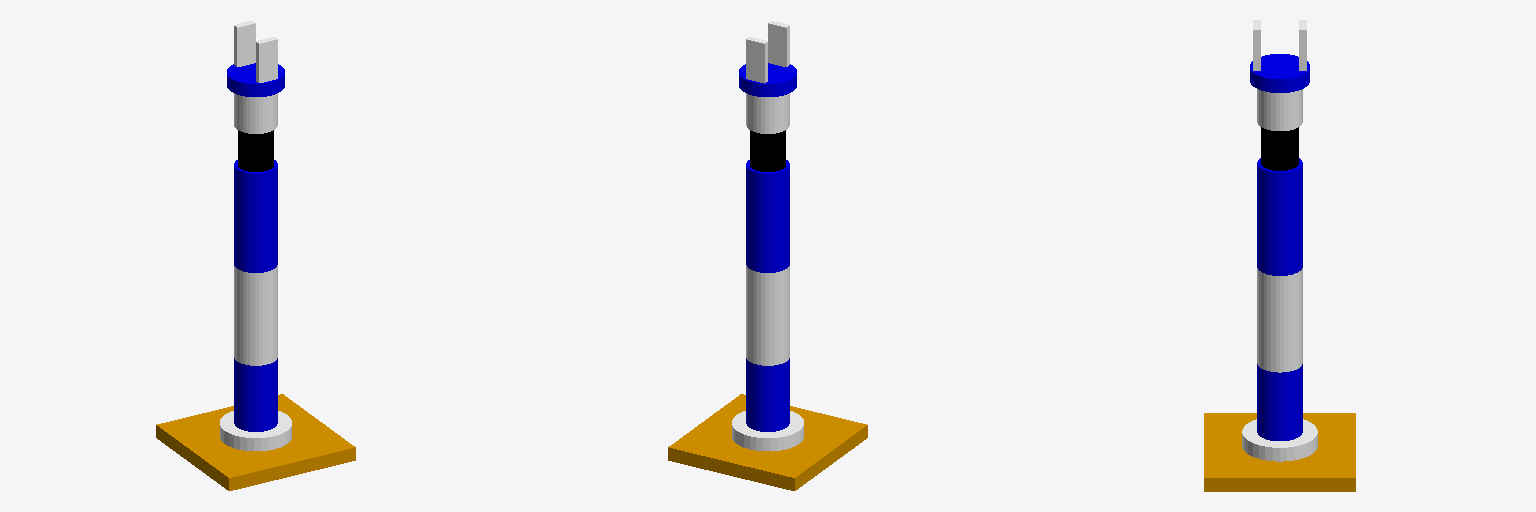
robot.urdf — marm:
<?xml version="1.0" ?>
<robot name="marm">
    <!-- /////////////////////////////////////    COLOR    ///////////////////////////////////////////// -->
    <material name="Black">
        <color rgba="0 0 0 1" />
    </material>
    <material name="White">
        <color rgba="1 1 1 1" />
    </material>
    <material name="Blue">
        <color rgba="0 0 1 1" />
    </material>
    <material name="Red">
        <color rgba="1 0 0 1" />
    </material>

    <joint name="bottom_joint" type="fixed">
        <origin xyz="0 0 0" rpy="0 0 0" />
        <parent link="base_link"/>
        <child link="bottom_link"/>
    </joint>
    <link name="bottom_link">
        <visual>
              <origin xyz=" 0 0 -0.01"  rpy="0 0 0"/>
                  <geometry>
                       <box size="0.2 0.2 0.02" />
                  </geometry>
              <material name="Brown" />
        </visual>
        <collision>
            <origin xyz=" 0 0 -0.01"  rpy="0 0 0"/>
            <geometry>
                <box size="0.2 0.2 0.02" />
            </geometry>
        </collision>
        <inertial>
            <mass value="500" />
            <inertia ixx="1.0" ixy="0.0" ixz="0.0" iyy="0.5" iyz="0.0" izz="1.0" />
        </inertial>
    </link>

    <!-- /////////////////////////////////////    BASE    ///////////////////////////////////////////// -->
    <link name="base_link">
        <visual>
            <origin rpy="0 0 0" xyz="0 0 0" />
            <geometry>
                <cylinder length="0.04" radius="0.05" />
            </geometry>
            <material name="White" />
        </visual>
        <collision>
            <origin rpy="0 0 0" xyz="0 0 0" />
            <geometry>
                <cylinder length="0.04" radius="0.05" />
            </geometry>
        </collision>
        
<inertial>
            <mass value="0.1" />
            <inertia ixx="0.03" iyy="0.03" izz="0.03" ixy="0.0" ixz="0.0" iyz="0.0" />
        </inertial>

    </link>
    <!-- /////////////////////////////////////   LINK1  ////////////////////////////////////////////// -->
    <link name="link1">
        <visual>
            <origin rpy="0 1.5707 0" xyz="-0.05 0 0" />
            <geometry>
                <cylinder length="0.1" radius="0.03" />
            </geometry>
            <material name="Blue" />
        </visual>
        <collision>
            <origin rpy="0 1.5707 0" xyz="-0.05 0 0" />
            <geometry>
                <cylinder length="0.1" radius="0.03" />
            </geometry>
        </collision>
        
<inertial>
            <mass value="0.1" />
            <inertia ixx="0.03" iyy="0.03" izz="0.03" ixy="0.0" ixz="0.0" iyz="0.0" />
        </inertial>

    </link>
    <joint name="joint1" type="revolute">
        <parent link="base_link" />
        <child link="link1" />
        <origin rpy="0 1.5707 0" xyz="0 0 0.02" />
        <axis xyz="-1 0 0" />
        <limit effort="300" lower="-3.14159" upper="3.14159" velocity="1" />
    </joint>
    <!-- ///////////////////////////////////////   LINK2  ////////////////////////////////////////////// -->
    <link name="link2">
        <visual>
            <origin rpy="0 0 0" xyz="0 0 0.07" />
            <geometry>
                <cylinder length="0.14" radius="0.03" />
            </geometry>
            <material name="White" />
        </visual>
        <collision>
            <origin rpy="0 0 0" xyz="0 0 0.07" />
            <geometry>
                <cylinder length="0.14" radius="0.03" />
            </geometry>
        </collision>
        
<inertial>
            <mass value="0.1" />
            <inertia ixx="0.03" iyy="0.03" izz="0.03" ixy="0.0" ixz="0.0" iyz="0.0" />
        </inertial>

    </link>
    <joint name="joint2" type="revolute">
        <parent link="link1" />
        <child link="link2" />
        <origin rpy="-1.5707 0 1.5707" xyz="-0.1 0 0.0" />
        <axis xyz="1 0 0" />
        <limit effort="300" lower="-3.14159" upper="3.14159" velocity="1" />
    </joint>
    <!-- /////////////////////////////////   LINK3  ///////////////////////////////////////////////////// -->
    <link name="link3">
        <visual>
            <origin rpy="0 0 0" xyz="0 0 -0.075" />
            <geometry>
                <cylinder length="0.15" radius="0.03" />
            </geometry>
            <material name="Blue" />
        </visual>
        <collision>
            <origin rpy="0 0 0" xyz="0 0 -0.075" />
            <geometry>
                <cylinder length="0.15" radius="0.03" />
            </geometry>
        </collision>
        
<inertial>
            <mass value="0.1" />
            <inertia ixx="0.03" iyy="0.03" izz="0.03" ixy="0.0" ixz="0.0" iyz="0.0" />
        </inertial>

    </link>
    <joint name="joint3" type="revolute">
        <parent link="link2" />
        <child link="link3" />
        <origin rpy="0 3.14159 0" xyz="0 0 0.14" />
        <axis xyz="-1 0 0" />
        <limit effort="300" lower="-3.14159" upper="3.14159" velocity="1" />
    </joint>
    <!-- ///////////////////////////////////   LINK4  //////////////////////////////////////////////// -->
    <link name="link4">
        <visual>
            <origin rpy="0 1.5707 0" xyz="0.03 0 0" />
            <geometry>
                <cylinder length="0.06" radius="0.025" />
            </geometry>
            <material name="Black" />
        </visual>
        <collision>
            <origin rpy="0 1.5707 0" xyz="0.03 0 0" />
            <geometry>
                <cylinder length="0.06" radius="0.025" />
            </geometry>
        </collision>
        
<inertial>
            <mass value="0.1" />
            <inertia ixx="0.03" iyy="0.03" izz="0.03" ixy="0.0" ixz="0.0" iyz="0.0" />
        </inertial>

    </link>
    <joint name="joint4" type="revolute">
        <parent link="link3" />
        <child link="link4" />
        <origin rpy="0 1.5707 3.14159" xyz="0.0 0.0 -0.15" />
        <axis xyz="1 0 0" />
        <limit effort="300" lower="-3.14159" upper="3.14159" velocity="1" />
    </joint>
    <!-- //////////////////////////////////   LINK5  ///////////////////////////////////////////////// -->
    <link name="link5">
        <visual>
            <origin rpy="0 0 0" xyz="0 0 0.03" />
            <geometry>
                <cylinder length="0.06" radius="0.03" />
            </geometry>
            <material name="White" />
        </visual>
        <collision>
            <origin rpy="0 0 0" xyz="0 0 0.03" />
            <geometry>
                <cylinder length="0.06" radius="0.03" />
            </geometry>
        </collision>
        
<inertial>
            <mass value="0.1" />
            <inertia ixx="0.03" iyy="0.03" izz="0.03" ixy="0.0" ixz="0.0" iyz="0.0" />
        </inertial>

    </link>
    <joint name="joint5" type="revolute">
        <parent link="link4" />
        <child link="link5" />
        <origin rpy="0 1.5707 0" xyz="0.06 0.0 0.0" />
        <axis xyz="1 0 0" />
        <limit effort="300" lower="-3.14159" upper="3.14159" velocity="1" />
    </joint>
    <!-- ////////////////////////////////   LINK6  ///////////////////////////////////////////////// -->
    <link name="link6">
        <visual>
            <origin rpy="0 1.5707 0" xyz="0.01 0 0 " />
            <geometry>
                <cylinder length="0.02" radius="0.04" />
            </geometry>
            <material name="Blue" />
        </visual>
        <collision>
            <origin rpy="0 1.5707 0" xyz="0.01 0 0 " />
            <geometry>
                <cylinder length="0.02" radius="0.04" />
            </geometry>
        </collision>
        
<inertial>
            <mass value="0.1" />
            <inertia ixx="0.03" iyy="0.03" izz="0.03" ixy="0.0" ixz="0.0" iyz="0.0" />
        </inertial>

    </link>
    <joint name="joint6" type="revolute">
        <parent link="link5" />
        <child link="link6" />
        <origin rpy="4.712385 -1.5707 0" xyz="0 0 0.06" />
        <axis xyz="1 0 0" />
        <limit effort="300" lower="-6.28318" upper="6.28318" velocity="1" />
    </joint>
    <!-- //////////////////////////////////////   GRIPPER   ////////////////////////////////////////////// -->
    <link name="gripper_finger_link1">
        <visual>
            <origin rpy="0 1.5707 0" xyz="0.03 0 0" />
            <geometry>
                <box size="0.03 0.01 0.06" />
            </geometry>
            <material name="White" />
        </visual>
        <collision>
            <origin rpy="0 1.5707 0" xyz="0.03 0 0" />
            <geometry>
                <box size="0.03 0.01 0.06" />
            </geometry>
        </collision>
        
<inertial>
            <mass value="0.1" />
            <inertia ixx="0.03" iyy="0.03" izz="0.03" ixy="0.0" ixz="0.0" iyz="0.0" />
        </inertial>

    </link>
    <link name="gripper_finger_link2">
        <visual>
            <origin rpy="0 1.5707 0" xyz="0.03 0 0" />
            <geometry>
                <box size="0.03 0.01 0.06" />
            </geometry>
            <material name="White" />
        </visual>
        <collision>
            <origin rpy="0 1.5707 0" xyz="0.03 0 0" />
            <geometry>
                <box size="0.03 0.01 0.06" />
            </geometry>
        </collision>
        
<inertial>
            <mass value="0.1" />
            <inertia ixx="0.03" iyy="0.03" izz="0.03" ixy="0.0" ixz="0.0" iyz="0.0" />
        </inertial>

    </link>
    <joint name="finger_joint1" type="prismatic">
        <parent link="link6" />
        <child link="gripper_finger_link1" />
        <origin rpy="0 0 0" xyz="0.02 -0.03 0" />
        <axis xyz="0 1 0" />
        <limit effort="100" lower="0" upper="0.03" velocity="0.02" />
    </joint>
    <joint name="finger_joint2" type="prismatic">
        <parent link="link6" />
        <child link="gripper_finger_link2" />
        <origin rpy="0 0 0" xyz="0.02 0.03 0" />
        <axis xyz="0 -1 0" />
        <limit effort="100" lower="0" upper="0.03" velocity="0.02" />
    </joint>

    <!-- //////////////////////////////////////   GRASPING FRAME   ////////////////////////////////////////////// -->
    <link name="grasping_frame" />
    <joint name="grasping_frame_joint" type="fixed">
        <parent link="link6" />
        <child link="grasping_frame" />
        <origin rpy="0 0 0" xyz="0.06 0 0" />
    </joint>

    <joint name="kinect_joint" type="fixed">
        <origin xyz="0.1 0 0.8" rpy="0 1.308996939 0" />
        <parent link="base_link"/>
        <child link="camera_link"/>
    </joint>

    <link name="camera_link">
            <origin xyz="0 0 0" rpy="0 0 0"/>
            <visual>
                <origin xyz="0 0 0" rpy="0 0 1.5708"/>
                <geometry>
                    <mesh filename="package://marm_description/meshes/kinect.dae" />
                </geometry>
            </visual>
            <collision>
                <geometry>
                    <box size="0.07 0.3 0.09"/>
                </geometry>
            </collision>
        </link>

        <joint name="camera_optical_joint" type="fixed">
            <origin xyz="0 0 0" rpy="-1.5708 0 -1.5708"/>
            <parent link="camera_link"/>
            <child link="camera_frame_optical"/>
        </joint>

        <link name="camera_frame_optical"/>

        <gazebo reference="camera_link">
            <sensor type="depth" name="camera">
                <always_on>true</always_on>
                <update_rate>20.0</update_rate>
                <camera>
                    <horizontal_fov>1.047</horizontal_fov>
                    <image>
                        <format>R8G8B8</format>
                        <width>640</width>
                        <height>480</height>
                    </image>
                    <clip>
                        <near>0.05</near>
                        <far>8.0</far>
                    </clip>
                </camera>
                <plugin name="kinect_camera_controller" filename="libgazebo_ros_openni_kinect.so">
                    <cameraName>camera</cameraName>
                    <alwaysOn>true</alwaysOn>
                    <updateRate>10</updateRate>
                    <imageTopicName>rgb/image_raw</imageTopicName>
                    <depthImageTopicName>depth/image_raw</depthImageTopicName>
                    <pointCloudTopicName>depth/points</pointCloudTopicName>
                    <cameraInfoTopicName>rgb/camera_info</cameraInfoTopicName>
                    <depthImageCameraInfoTopicName>depth/camera_info</depthImageCameraInfoTopicName>
                    <frameName>camera_frame_optical</frameName>
                    <baseline>0.1</baseline>
                    <distortion_k1>0.0</distortion_k1>
                    <distortion_k2>0.0</distortion_k2>
                    <distortion_k3>0.0</distortion_k3>
                    <distortion_t1>0.0</distortion_t1>
                    <distortion_t2>0.0</distortion_t2>
                    <pointCloudCutoff>0.4</pointCloudCutoff>
                </plugin>
            </sensor>
        </gazebo>

    
<transmission name="trans_joint1">
        <type>transmission_interface/SimpleTransmission</type>
        <joint name="joint1">
            <hardwareInterface>hardware_interface/PositionJointInterface</hardwareInterface>
        </joint>
        <actuator name="joint1_motor">
            <hardwareInterface>hardware_interface/PositionJointInterface</hardwareInterface>
            <mechanicalReduction>1</mechanicalReduction>
        </actuator>
    </transmission>
    <transmission name="trans_joint2">
        <type>transmission_interface/SimpleTransmission</type>
        <joint name="joint2">
            <hardwareInterface>hardware_interface/PositionJointInterface</hardwareInterface>
        </joint>
        <actuator name="joint2_motor">
            <hardwareInterface>hardware_interface/PositionJointInterface</hardwareInterface>
            <mechanicalReduction>1</mechanicalReduction>
        </actuator>
    </transmission>
    <transmission name="trans_joint3">
        <type>transmission_interface/SimpleTransmission</type>
        <joint name="joint3">
            <hardwareInterface>hardware_interface/PositionJointInterface</hardwareInterface>
        </joint>
        <actuator name="joint3_motor">
            <hardwareInterface>hardware_interface/PositionJointInterface</hardwareInterface>
            <mechanicalReduction>1</mechanicalReduction>
        </actuator>
    </transmission>
    <transmission name="trans_joint4">
        <type>transmission_interface/SimpleTransmission</type>
        <joint name="joint4">
            <hardwareInterface>hardware_interface/PositionJointInterface</hardwareInterface>
        </joint>
        <actuator name="joint4_motor">
            <hardwareInterface>hardware_interface/PositionJointInterface</hardwareInterface>
            <mechanicalReduction>1</mechanicalReduction>
        </actuator>
    </transmission>
    <transmission name="trans_joint5">
        <type>transmission_interface/SimpleTransmission</type>
        <joint name="joint5">
            <hardwareInterface>hardware_interface/PositionJointInterface</hardwareInterface>
        </joint>
        <actuator name="joint5_motor">
            <hardwareInterface>hardware_interface/PositionJointInterface</hardwareInterface>
            <mechanicalReduction>1</mechanicalReduction>
        </actuator>
    </transmission>
    <transmission name="trans_joint6">
        <type>transmission_interface/SimpleTransmission</type>
        <joint name="joint6">
            <hardwareInterface>hardware_interface/PositionJointInterface</hardwareInterface>
        </joint>
        <actuator name="joint6_motor">
            <hardwareInterface>hardware_interface/PositionJointInterface</hardwareInterface>
            <mechanicalReduction>1</mechanicalReduction>
        </actuator>
    </transmission>
    <transmission name="trans_finger_joint1">
        <type>transmission_interface/SimpleTransmission</type>
        <joint name="finger_joint1">
            <hardwareInterface>hardware_interface/PositionJointInterface</hardwareInterface>
        </joint>
        <actuator name="finger_joint1_motor">
            <hardwareInterface>hardware_interface/PositionJointInterface</hardwareInterface>
            <mechanicalReduction>1</mechanicalReduction>
        </actuator>
    </transmission>
    <transmission name="trans_finger_joint2">
        <type>transmission_interface/SimpleTransmission</type>
        <joint name="finger_joint2">
            <hardwareInterface>hardware_interface/PositionJointInterface</hardwareInterface>
        </joint>
        <actuator name="finger_joint2_motor">
            <hardwareInterface>hardware_interface/PositionJointInterface</hardwareInterface>
            <mechanicalReduction>1</mechanicalReduction>
        </actuator>
    </transmission>
    <gazebo>
        <plugin name="gazebo_ros_control" filename="libgazebo_ros_control.so">
            <robotNamespace>/</robotNamespace>
        </plugin>
    </gazebo>
</robot>

--- Render facts (derived) ---
The picture shows the robot from 3 angles, left to right: view 1: azimuth 30°, elevation 25°; view 2: azimuth 150°, elevation 25°; view 3: azimuth 270°, elevation 25°; orthographic projection.
Model marm with 13 links and 12 joints (6 revolute, 2 prismatic, 4 fixed), rooted at base_link, posed every joint at zero.
Links seen in each view (by area): view 1: bottom_link, link3, link2, link1, base_link, link5, link4, link6, gripper_finger_link1, gripper_finger_link2; view 2: bottom_link, link3, link2, link1, base_link, link5, link4, link6, gripper_finger_link1, gripper_finger_link2; view 3: bottom_link, link3, link2, link1, base_link, link6, link5, link4.
Boxes of the visible links, x1=… form: bottom_link: x1=156, y1=394, x2=355, y2=490; link3: x1=234, y1=160, x2=277, y2=272; link2: x1=234, y1=265, x2=277, y2=365; link1: x1=234, y1=358, x2=277, y2=431; base_link: x1=220, y1=411, x2=291, y2=450; link5: x1=234, y1=93, x2=277, y2=133; link4: x1=238, y1=130, x2=273, y2=171; link6: x1=227, y1=63, x2=284, y2=96; gripper_finger_link1: x1=234, y1=21, x2=255, y2=66; gripper_finger_link2: x1=256, y1=37, x2=277, y2=82; bottom_link: x1=668, y1=394, x2=867, y2=490; link3: x1=746, y1=160, x2=789, y2=272; link2: x1=746, y1=265, x2=789, y2=365; link1: x1=746, y1=358, x2=789, y2=431; base_link: x1=732, y1=411, x2=803, y2=450; link5: x1=746, y1=93, x2=789, y2=133; link4: x1=750, y1=130, x2=785, y2=171; link6: x1=739, y1=63, x2=796, y2=96; gripper_finger_link1: x1=746, y1=37, x2=767, y2=83; gripper_finger_link2: x1=768, y1=21, x2=789, y2=66; bottom_link: x1=1204, y1=413, x2=1355, y2=491; link3: x1=1257, y1=158, x2=1302, y2=275; link2: x1=1257, y1=268, x2=1302, y2=372; link1: x1=1257, y1=364, x2=1302, y2=440; base_link: x1=1242, y1=419, x2=1317, y2=461; link6: x1=1250, y1=54, x2=1309, y2=92; link5: x1=1257, y1=89, x2=1302, y2=130; link4: x1=1261, y1=127, x2=1298, y2=170.
Size in the robot's own frame: 0.2 by 0.2 by 0.63 metres.
Meshes: 1 distinct files referenced, 0 mesh visuals loaded (none loaded); not drawn: 1 (reference not matched to a file when rendering).
